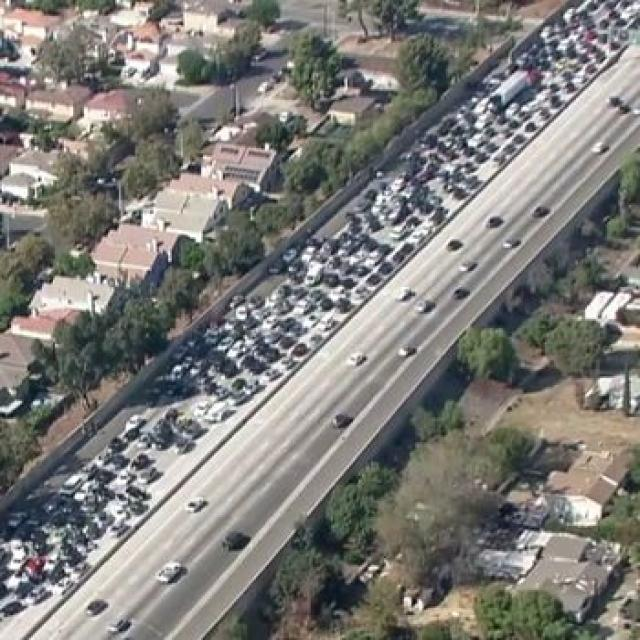traffic_incident: (11, 0, 583, 603)
